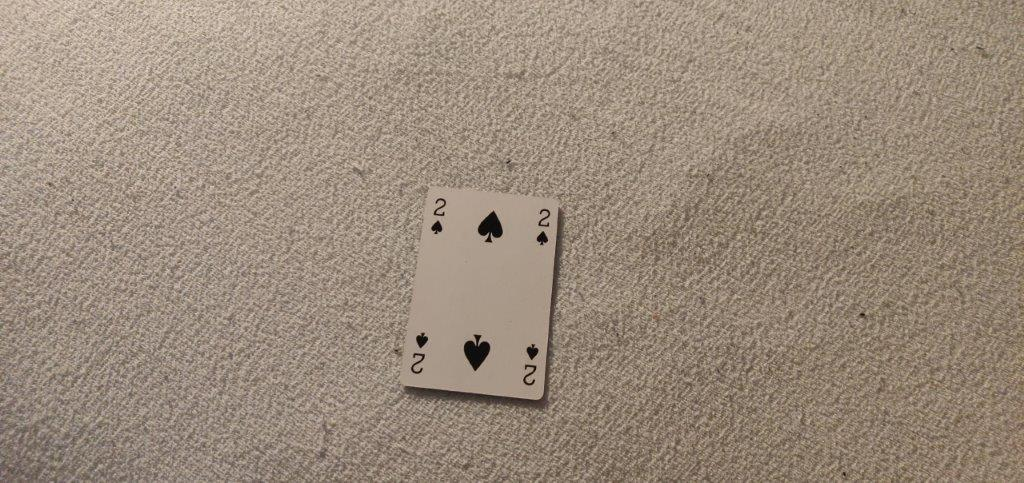2S: (428, 194, 447, 239), (533, 206, 553, 247)
